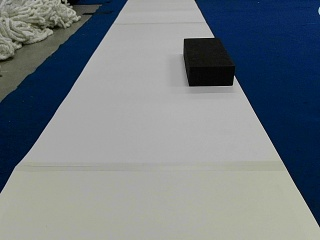block: (183, 36, 234, 86)
